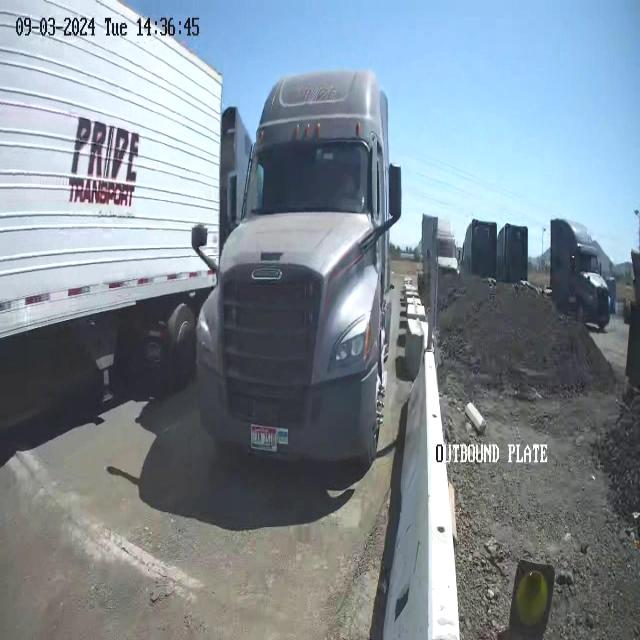CONTAINER: (0, 0, 220, 337)
